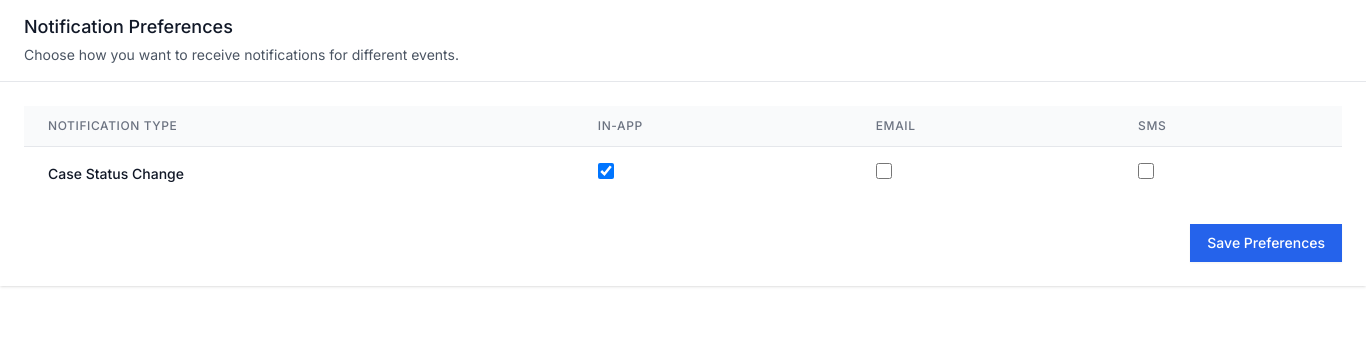
it: NotificationPreferences › should handle preference changes
Expected: the heading "Notification Preferences" is shown, [24,16,233,37]
# Toggle the checkbox
Step 1. Click the checkbox named "Receive email notifications for Case Status Change" → (884, 171), box [876,163,892,179]
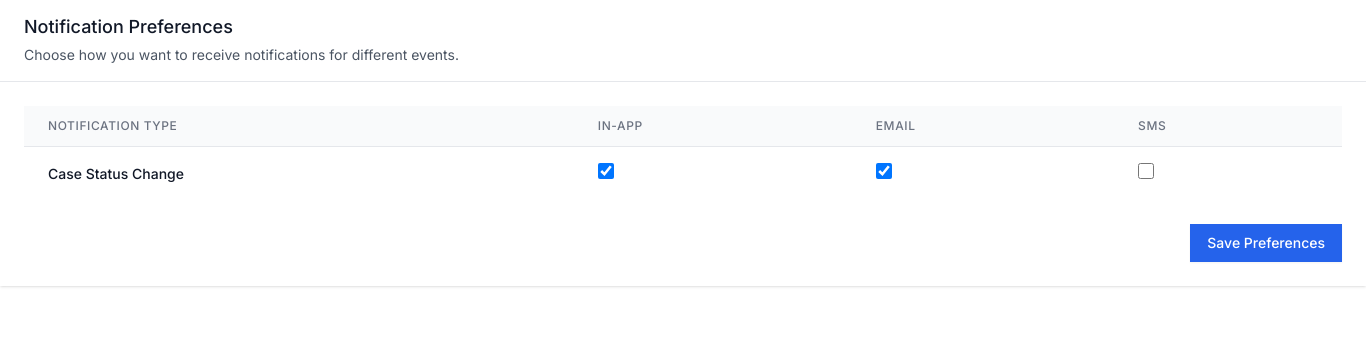
# Save preferences
Step 2. Click the button "Save Preferences" → (1266, 243), box [1190,224,1342,262]
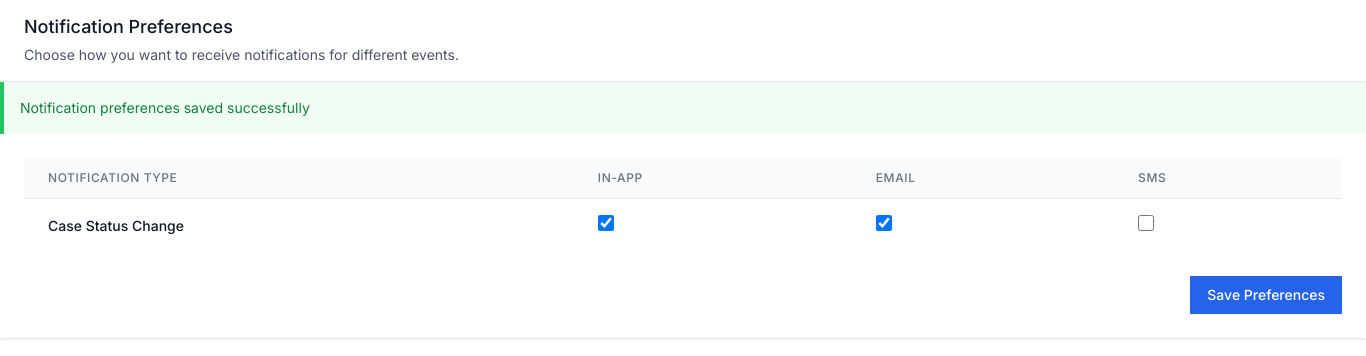
Now the text "Notification preferences saved successfully" is shown, box [20,99,310,116]
